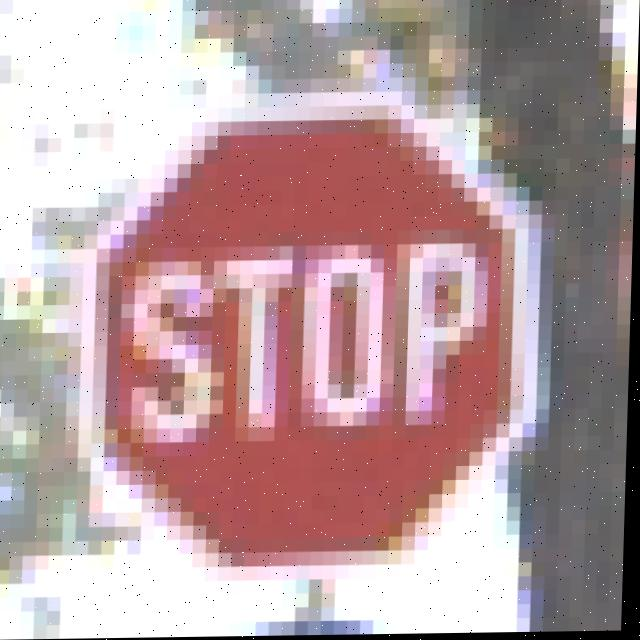stop: (85, 98, 550, 563)
